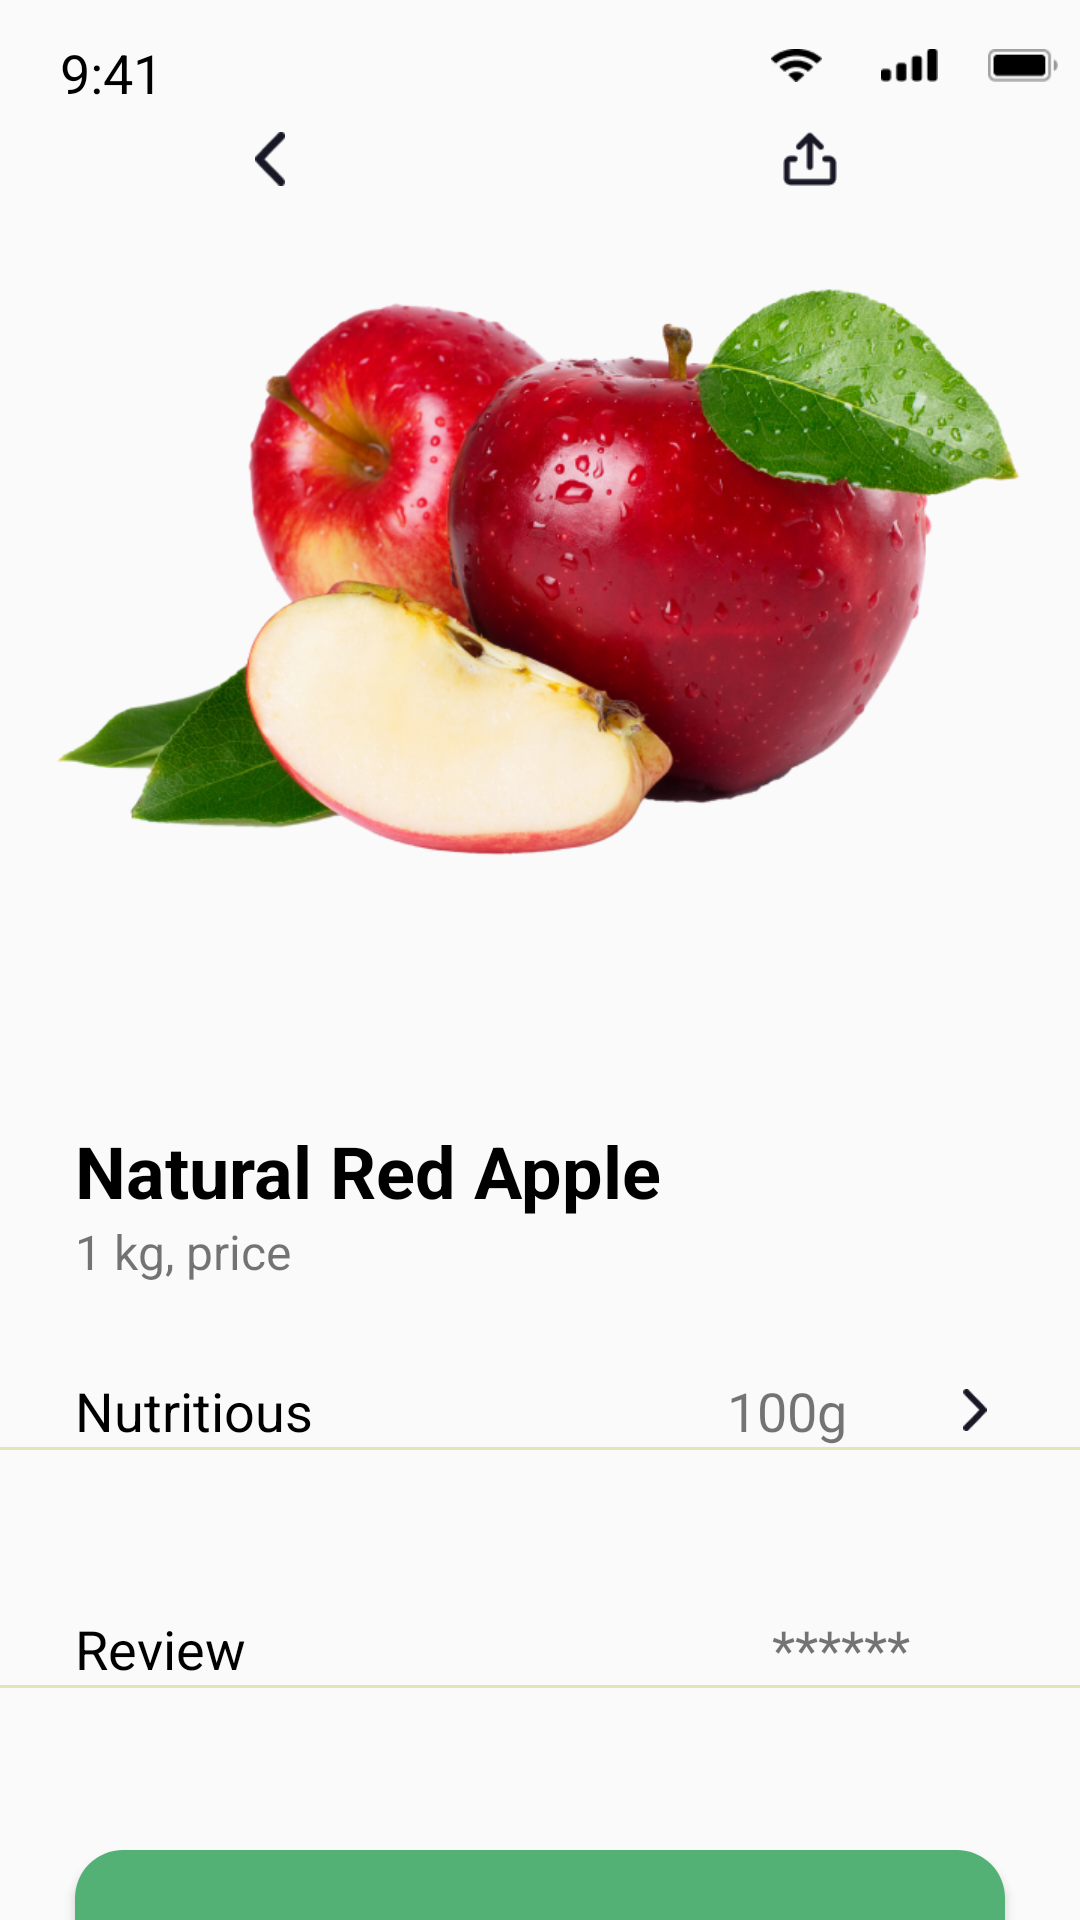

Icon click points for this 1080 × 1920 phone screenshot, format [x,y]:
battery: [1023,65]
network: [909,65]
share: [810,159]
wifi: [796,65]
